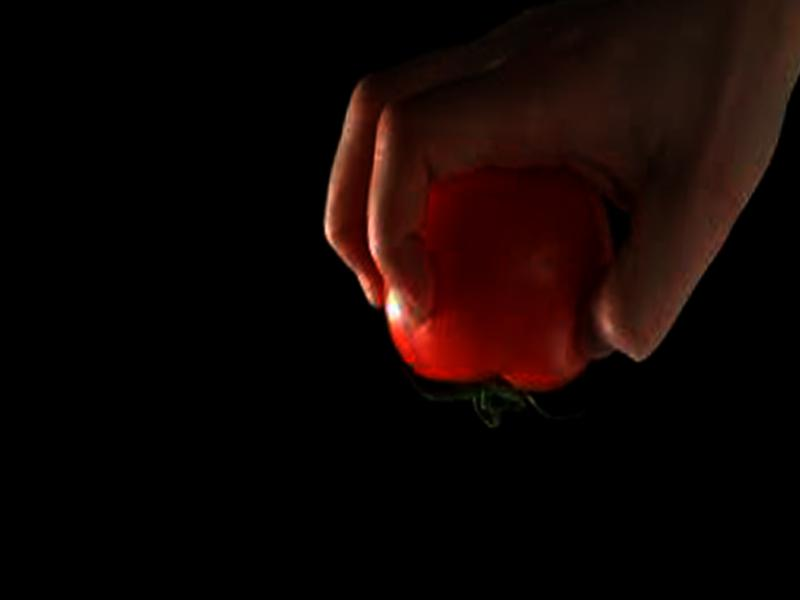Tomato: (375, 160, 619, 433)
